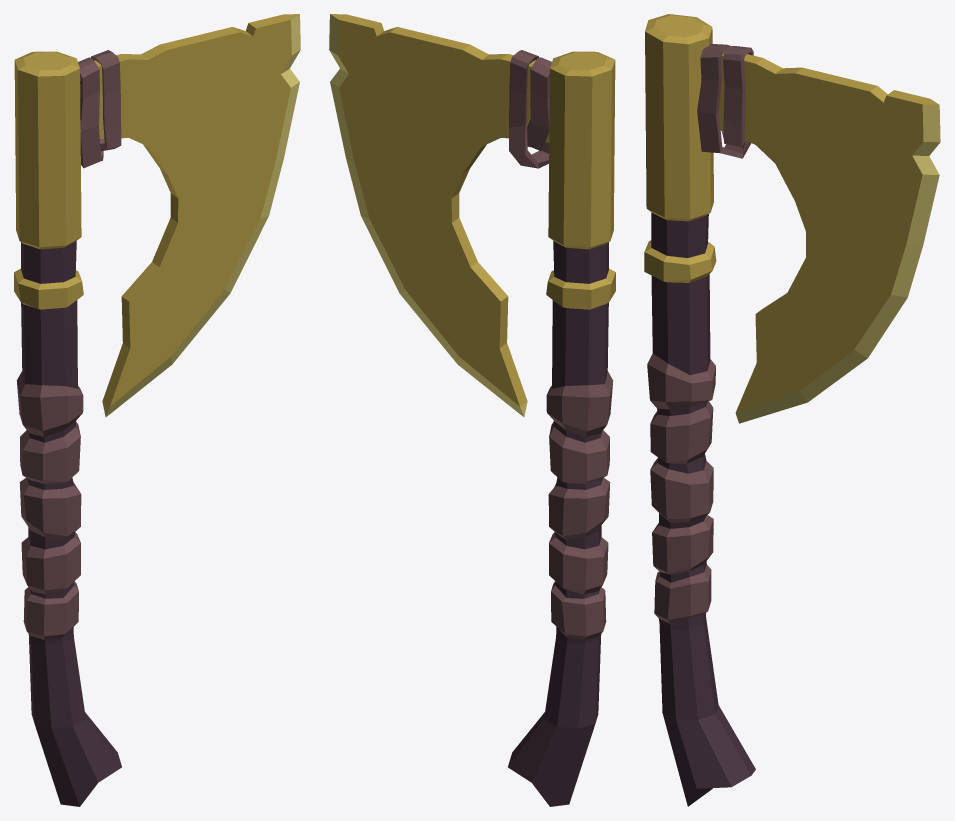
The model's file is axe_small_golden.glb.
The picture shows the model from 3 angles, left to right: view 1: azimuth 30°, elevation 25°; view 2: azimuth 150°, elevation 25°; view 3: azimuth 330°, elevation 25°; orthographic projection. The views are drawn at different scales.
Parts seen in each view (by area): view 1: Axe_small_Golden; view 2: Axe_small_Golden; view 3: Axe_small_Golden.
Part boxes in pixels (x1=…): Axe_small_Golden: x1=14, y1=14, x2=300, y2=806; Axe_small_Golden: x1=329, y1=14, x2=615, y2=806; Axe_small_Golden: x1=644, y1=14, x2=940, y2=806.
Size of the model in its own units: 0.6236 by 1.57 by 0.1322.
